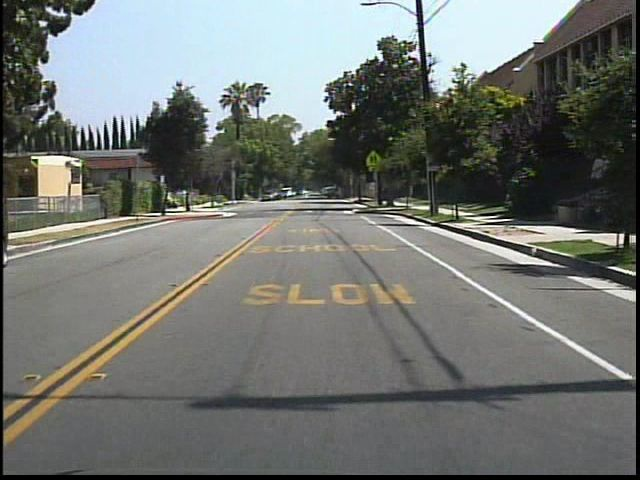person: (316, 186, 330, 204)
